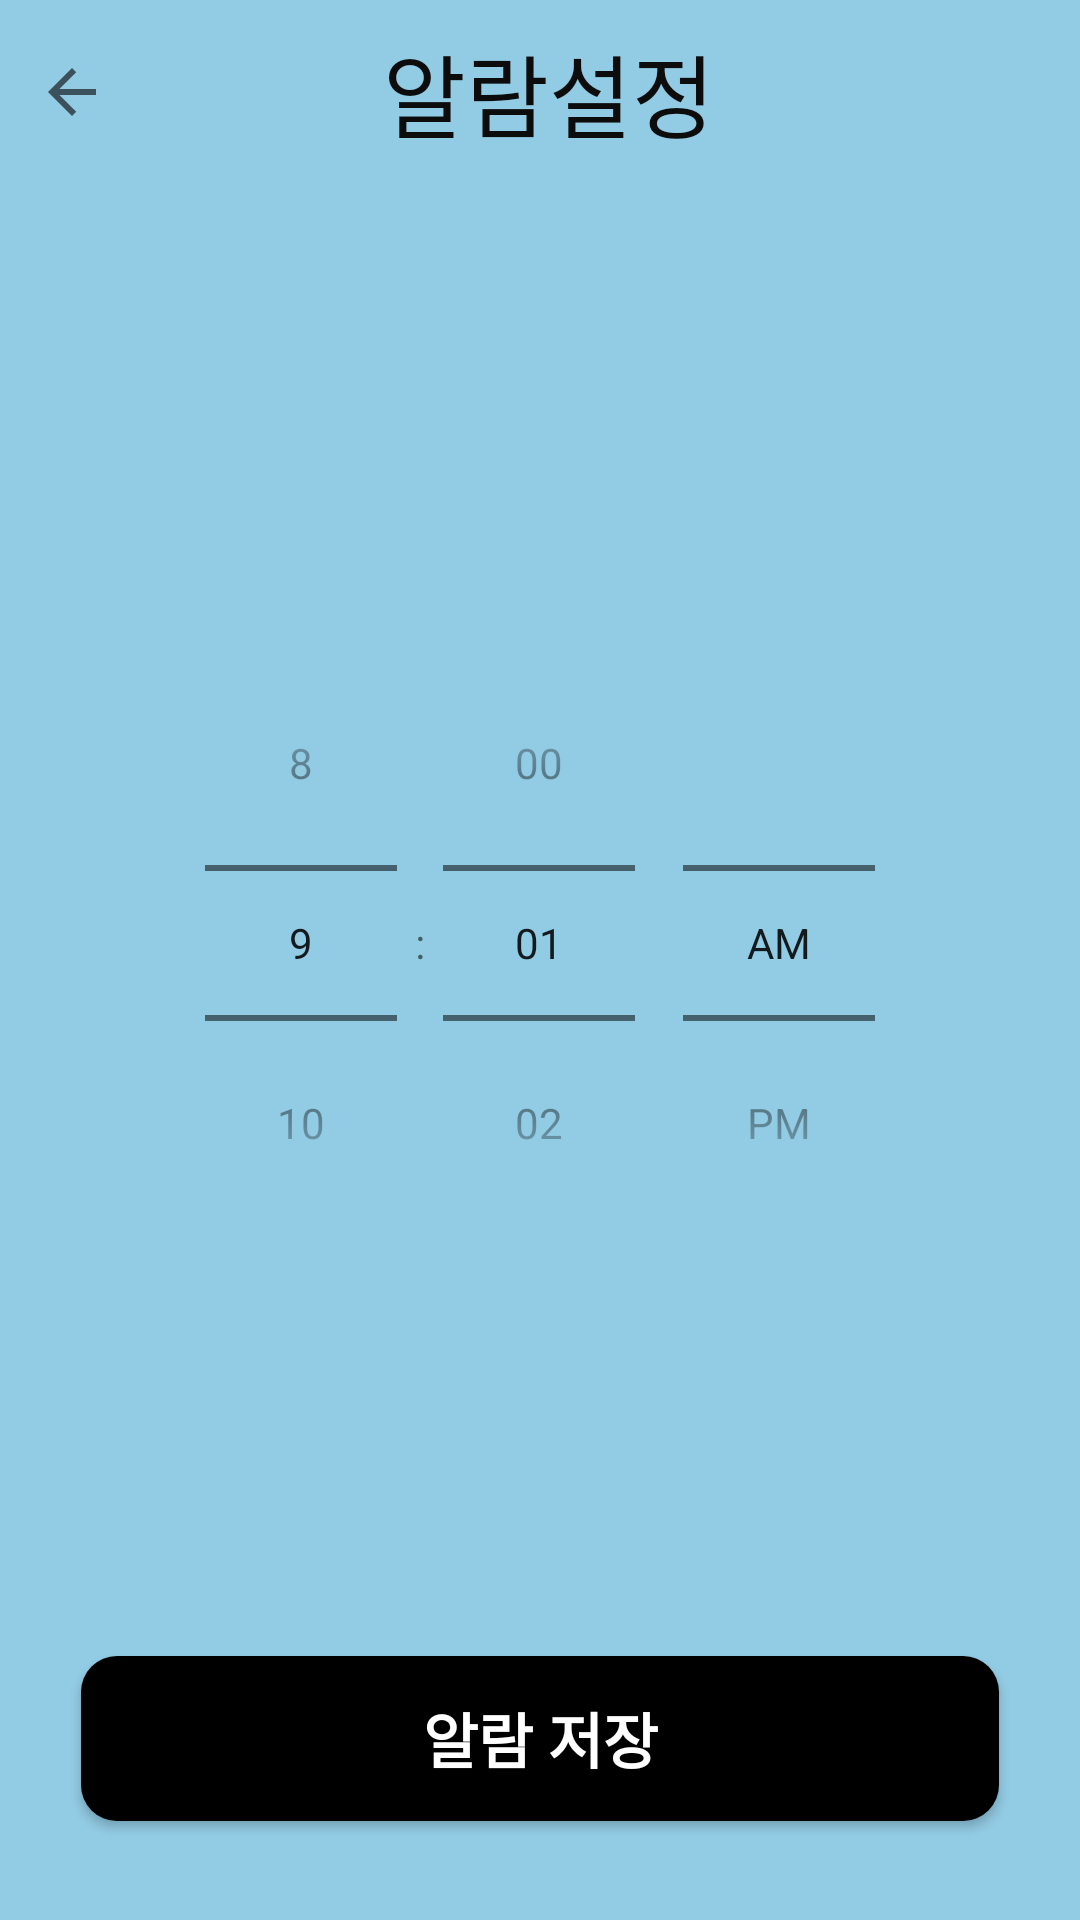

Locate icon controls on the screen. Image size 1080*1920, boxes as {"x1": x1, "y1": y1, "x2": x2, "y2": y2}.
뒤로가기: {"x1": 48, "y1": 68, "x2": 96, "y2": 116}
